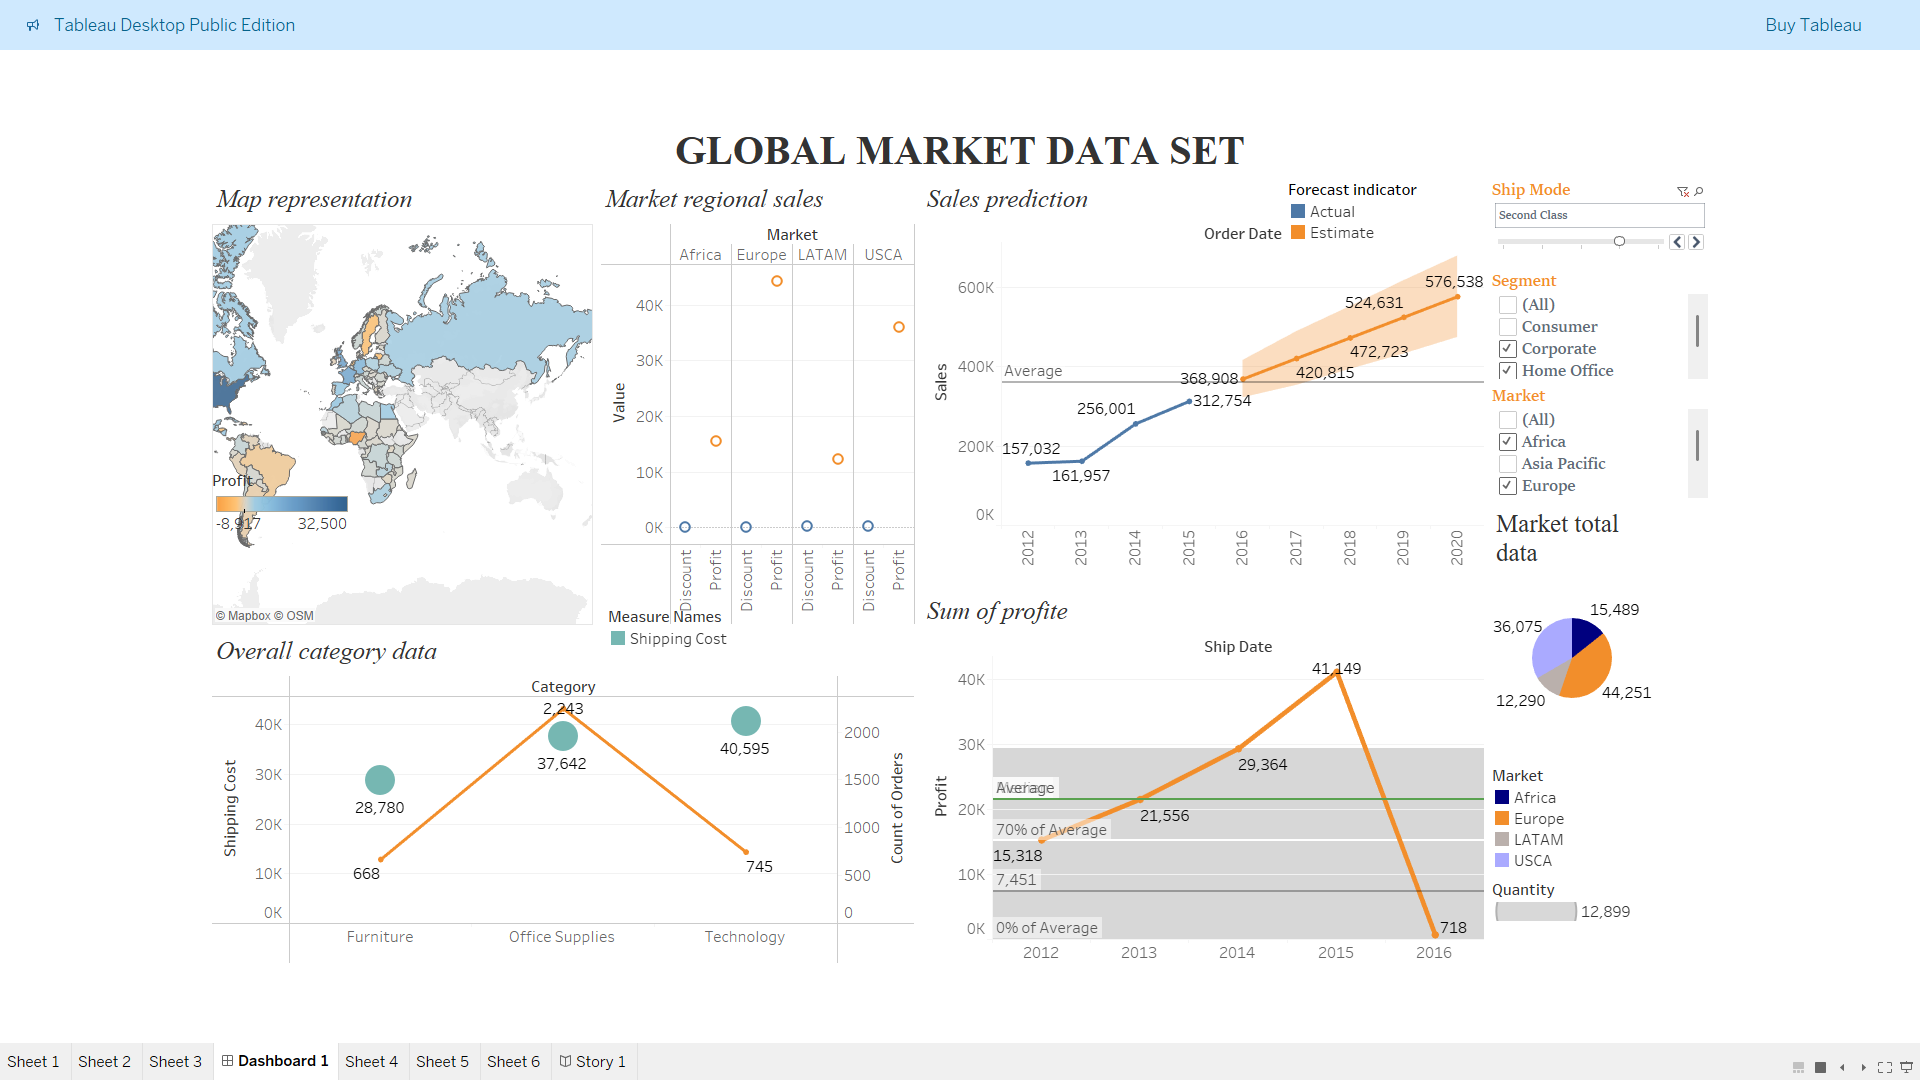

What the dashboard file says about the page in this screenshot:
{"tool":"tableau","page":{"name":"Dashboard 1","canvas":[1000,1000],"units":"permille","ordinal":0},"visuals":[{"type":"title","box":[5.3,10,989.5,66.1]},{"type":"legend","title":"Sheet 2","param":"[federated.1nj6qd210zfpyo1dzl5g90oos3fo].[none:Forecast Indicator:nk]","box":[715.8,73.6,88.8,89.8]},{"type":"worksheet","title":"Sheet 3","mark":"Automatic","box":[5.3,76.1,255.6,522.4]},{"type":"worksheet","title":"Sheet 4","mark":"Shape","cols":["Market"],"box":[260.9,76.1,212.2,522.4]},{"type":"worksheet","title":"Sheet 2","mark":"Automatic","rows":["Sales"],"cols":["Order Date"],"box":[473,76.1,374.3,477.6]},{"type":"filter","title":"Sheet 1","param":"[federated.1nj6qd210zfpyo1dzl5g90oos3fo].[none:Ship Mode:nk]","box":[847.4,76.1,147.4,113.5]},{"type":"filter","title":"Sheet 1","param":"[federated.1nj6qd210zfpyo1dzl5g90oos3fo].[none:Segment:nk]","box":[847.4,189.5,147.4,143.4]},{"type":"filter","title":"Sheet 1","param":"[federated.1nj6qd210zfpyo1dzl5g90oos3fo].[none:Market:nk]","box":[847.4,332.9,147.4,148.4]},{"type":"legend","title":"Sheet 3","param":"[federated.1nj6qd210zfpyo1dzl5g90oos3fo].[sum:Profit:qk]","box":[7.9,411.5,92.1,109.7]},{"type":"worksheet","title":"Sheet 6","mark":"Pie","box":[847.4,481.3,147.4,322.9]},{"type":"worksheet","title":"Sheet 1","mark":"Automatic","rows":["Profit"],"cols":["Ship Date"],"box":[473,553.6,374.3,436.4]},{"type":"legend","title":"Sheet 5","param":"[federated.1nj6qd210zfpyo1dzl5g90oos3fo].[:Measure Names]","box":[268.4,569.8,92.1,53.6]},{"type":"worksheet","title":"Sheet 5","mark":"Automatic","rows":["Shipping Cost","Orders_3DD3943F20C242CB870DA2F6CCF628AD"],"cols":["Category"],"box":[5.3,598.5,467.8,391.5]},{"type":"legend","title":"Sheet 6","param":"[federated.1nj6qd210zfpyo1dzl5g90oos3fo].[none:Market:nk]","box":[847.4,804.3,147.4,122.2]},{"type":"legend","title":"Sheet 6","param":"[federated.1nj6qd210zfpyo1dzl5g90oos3fo].[sum:Quantity:qk]","box":[847.4,926.4,147.4,63.6]}]}

Visuals, with their boxes on the dashboard's canvas, which has no fixed pixel size, in thousandths of its width and height (x1, y1, x2, y2). These are canvas units, not pixel positions in the 1920x1080 screenshot, which may show the page scaled, cropped or inside an application window:
title: bbox=[5, 10, 995, 76]
"Sheet 2" legend: bbox=[716, 74, 805, 163]
"Sheet 3" worksheet: bbox=[5, 76, 261, 598]
"Sheet 4" worksheet (Shape marks): bbox=[261, 76, 473, 598]
"Sheet 2" worksheet: bbox=[473, 76, 847, 554]
"Sheet 1" filter: bbox=[847, 76, 995, 190]
"Sheet 1" filter: bbox=[847, 190, 995, 333]
"Sheet 1" filter: bbox=[847, 333, 995, 481]
"Sheet 3" legend: bbox=[8, 412, 100, 521]
"Sheet 6" worksheet (Pie marks): bbox=[847, 481, 995, 804]
"Sheet 1" worksheet: bbox=[473, 554, 847, 990]
"Sheet 5" legend: bbox=[268, 570, 360, 623]
"Sheet 5" worksheet: bbox=[5, 598, 473, 990]
"Sheet 6" legend: bbox=[847, 804, 995, 926]
"Sheet 6" legend: bbox=[847, 926, 995, 990]
